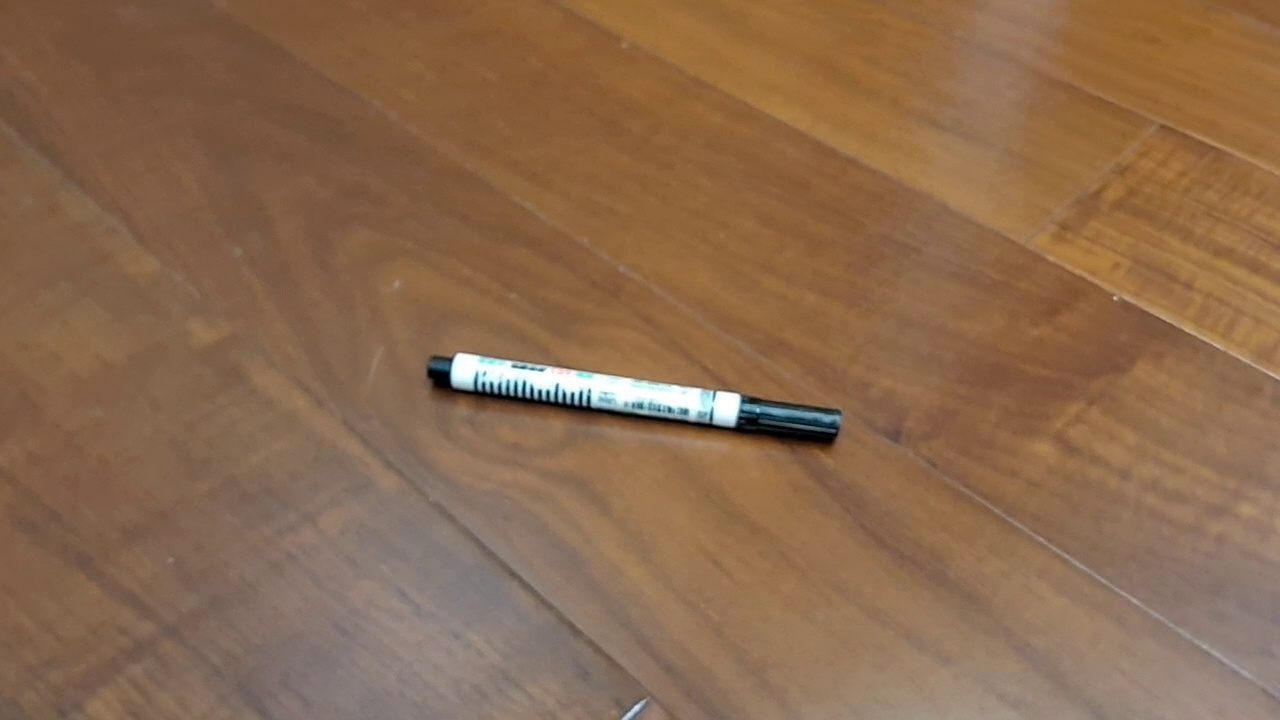pen: (426, 350, 843, 446)
